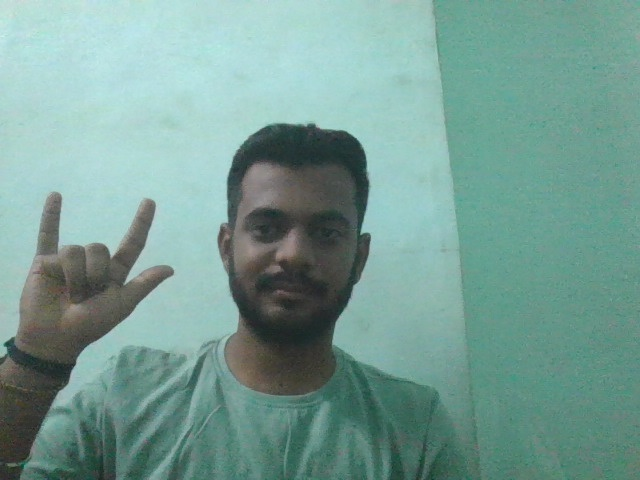iloveyou: (7, 167, 198, 381)
